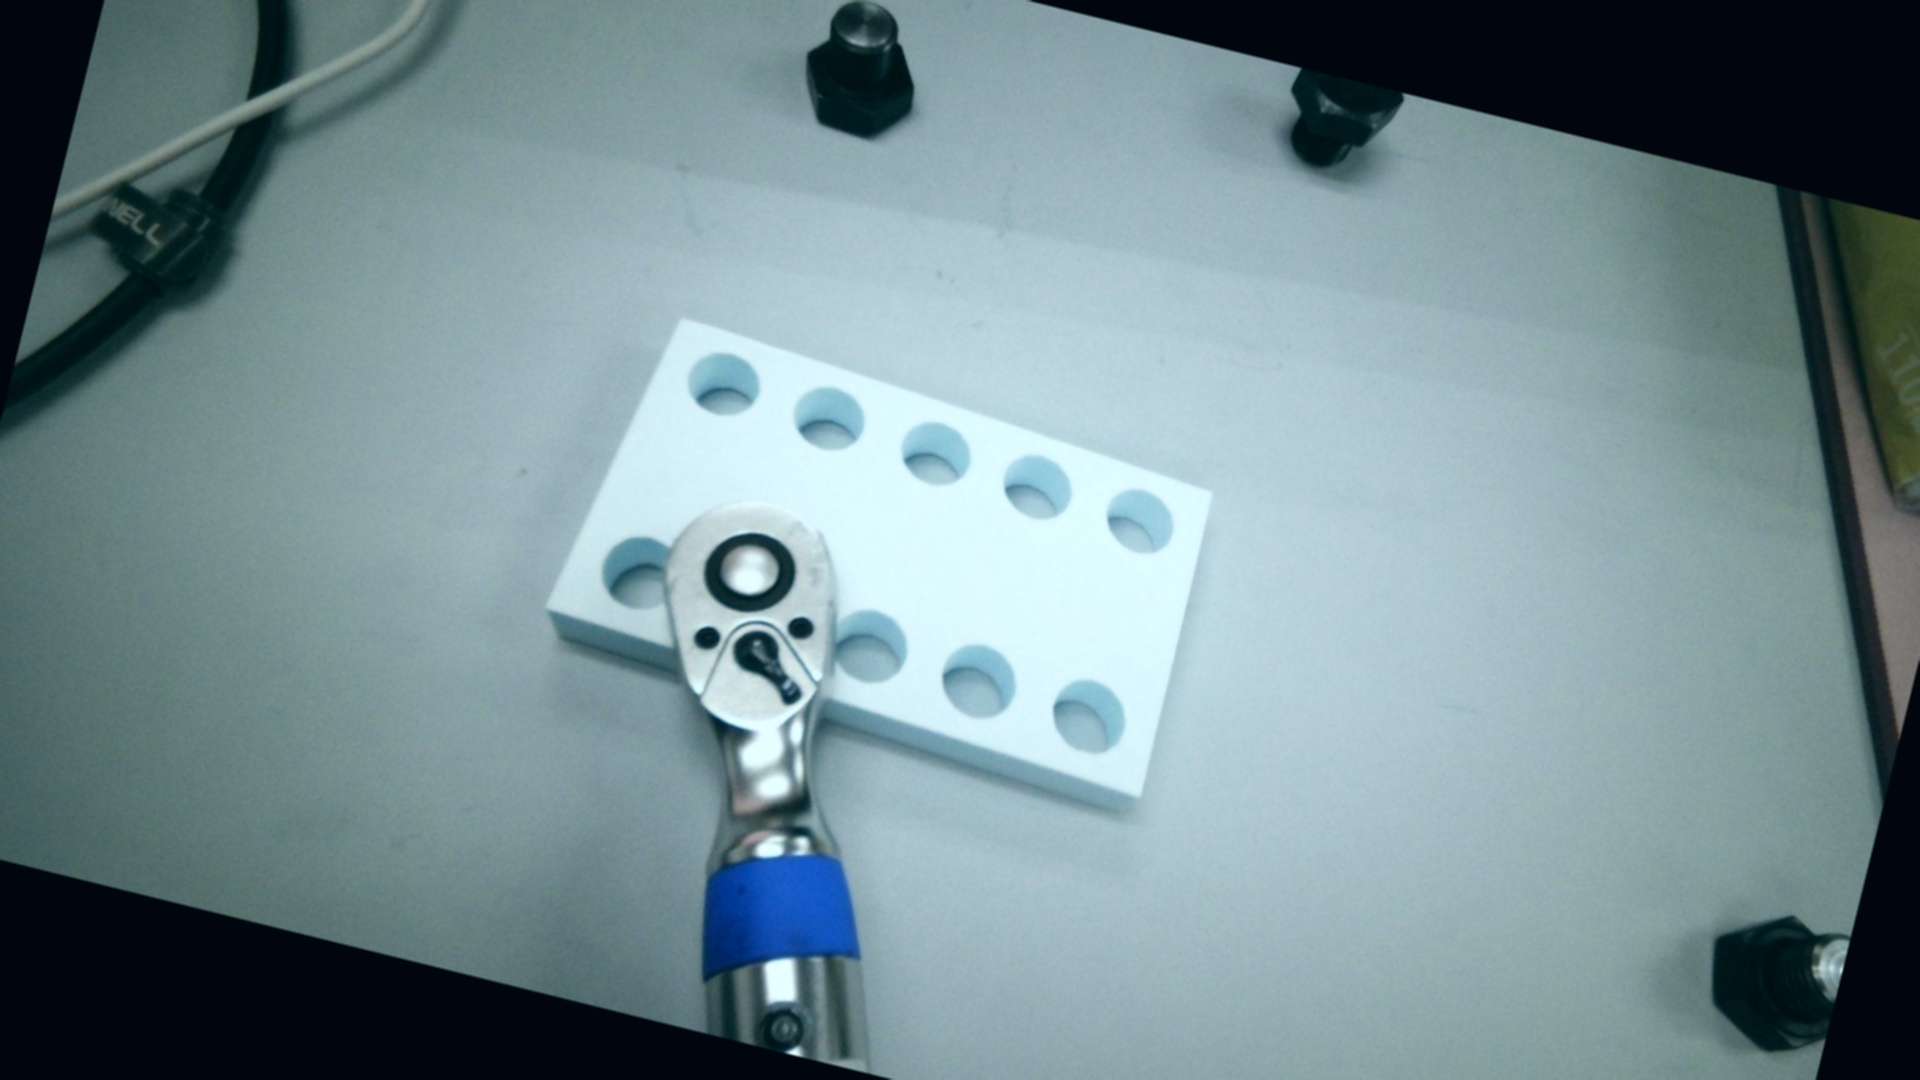hole: (932, 637, 1027, 729), (824, 603, 918, 694), (592, 527, 679, 617), (1046, 673, 1134, 760), (678, 344, 767, 425), (891, 411, 978, 493), (785, 378, 872, 455), (996, 447, 1079, 525), (1098, 483, 1182, 558)
obj: (529, 301, 1228, 819)
wrench: (696, 522, 804, 622)
